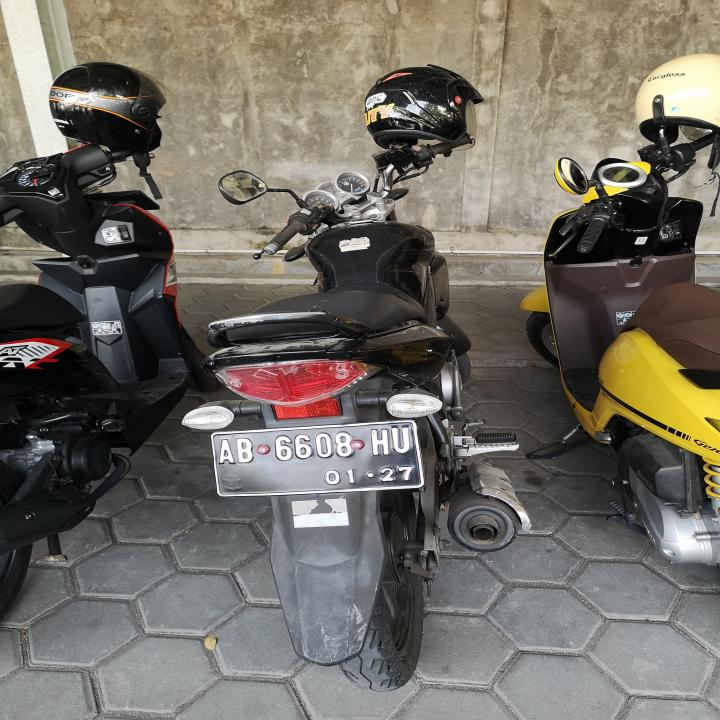plate: (208, 417, 426, 500)
